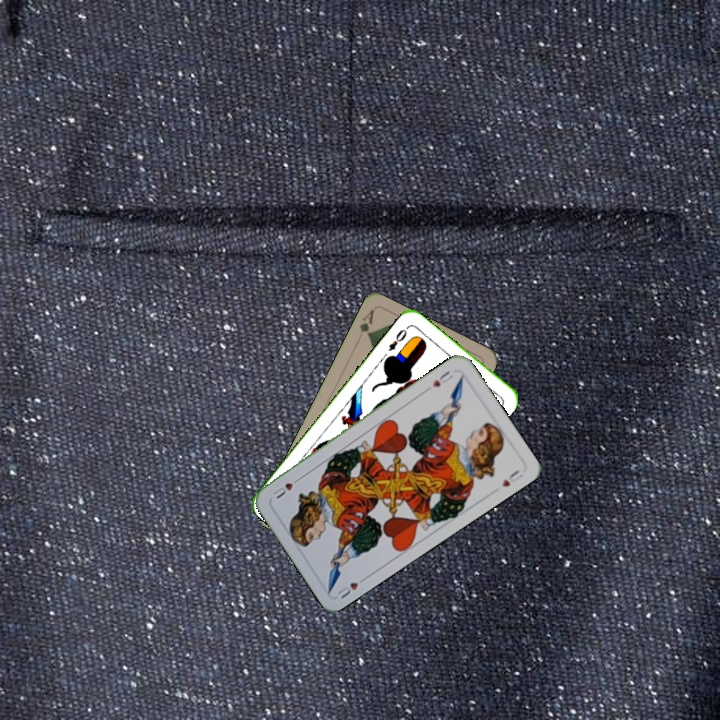EO: (384, 325, 410, 354)
GA: (355, 306, 377, 339)
HU: (332, 572, 370, 601), (428, 367, 456, 390)
